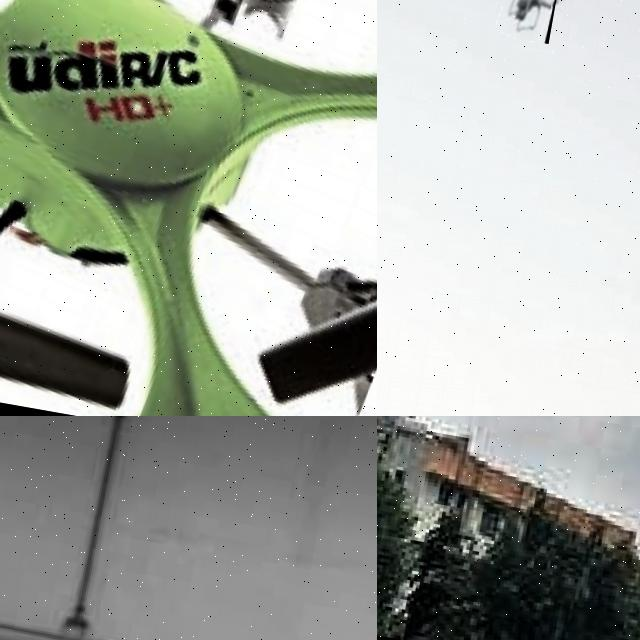0: (496, 0, 561, 43)
drone: (0, 0, 377, 416)
